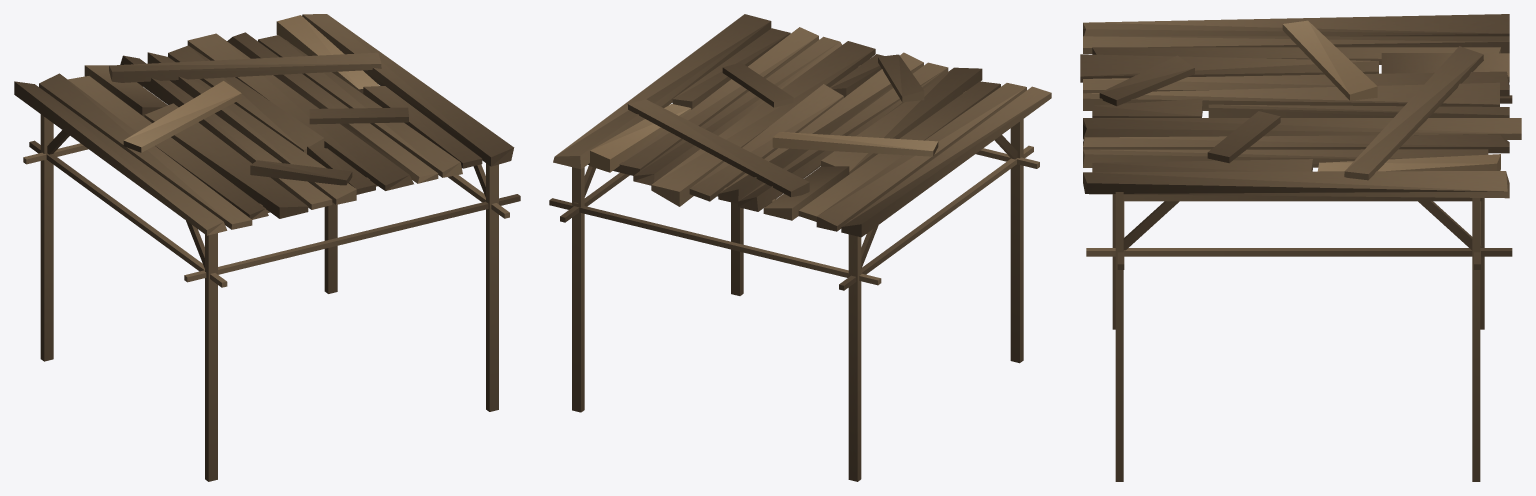
The model's file is ZLP_Build_D_3.FBX.
3 views of the same model, side by side, from view 1: azimuth 30°, elevation 25°; view 2: azimuth 150°, elevation 25°; view 3: azimuth 270°, elevation 25° (orthographic). The views are drawn at different scales.
Visible parts, largest first — view 1: ZLP_Build_D_3; view 2: ZLP_Build_D_3; view 3: ZLP_Build_D_3.
Boxes of the visible parts, x1,y1,x2,y2 form: ZLP_Build_D_3: (14,14,520,481); ZLP_Build_D_3: (549,14,1051,481); ZLP_Build_D_3: (1080,14,1521,481).
Size of the model in its own units: 408 by 328 by 422.
